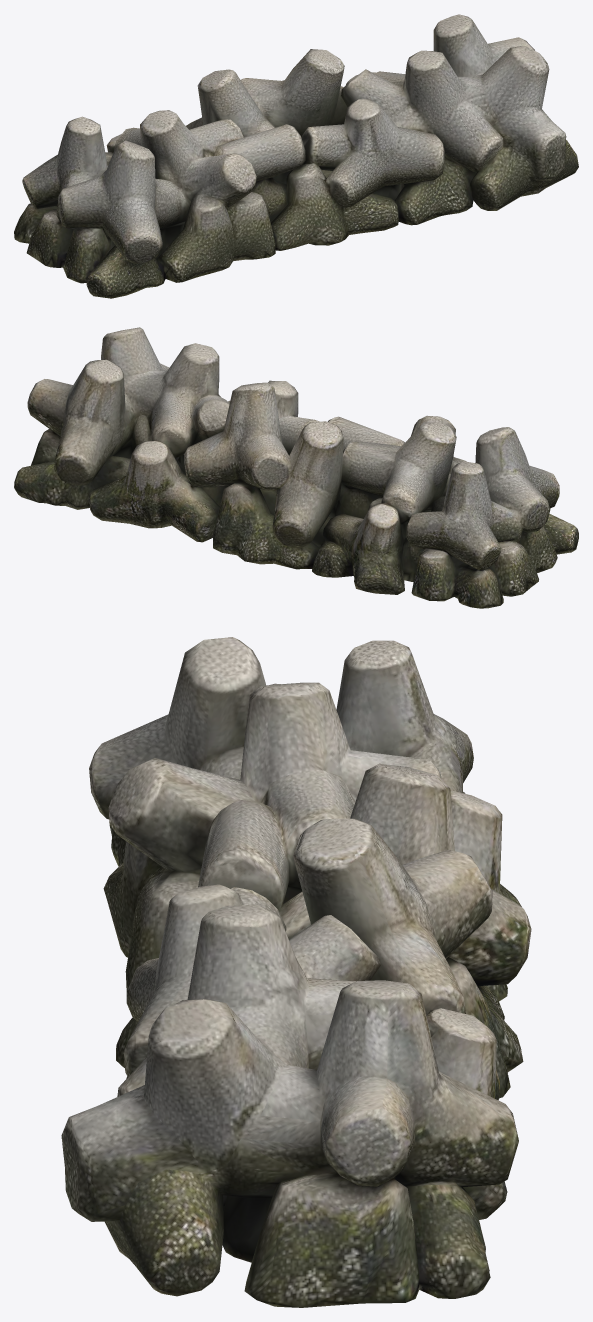
The model's file is teluk-tetrapod-bank.glb.
The picture shows the model from 3 angles, top to bottom: view 1: azimuth 30°, elevation 25°; view 2: azimuth 150°, elevation 25°; view 3: azimuth 270°, elevation 25°; orthographic projection. The views are drawn at different scales.
Visible parts, largest first — view 1: teluk-tetrapod-bank; view 2: teluk-tetrapod-bank; view 3: teluk-tetrapod-bank.
Part boxes in pixels (box(x1,y1,x2,y2)): teluk-tetrapod-bank: box(14, 14, 578, 298); teluk-tetrapod-bank: box(14, 327, 578, 608); teluk-tetrapod-bank: box(61, 637, 531, 1307).
Bounding box in the file's own units: 14 × 3.7 × 5.76.
1 material, 1 textured.
